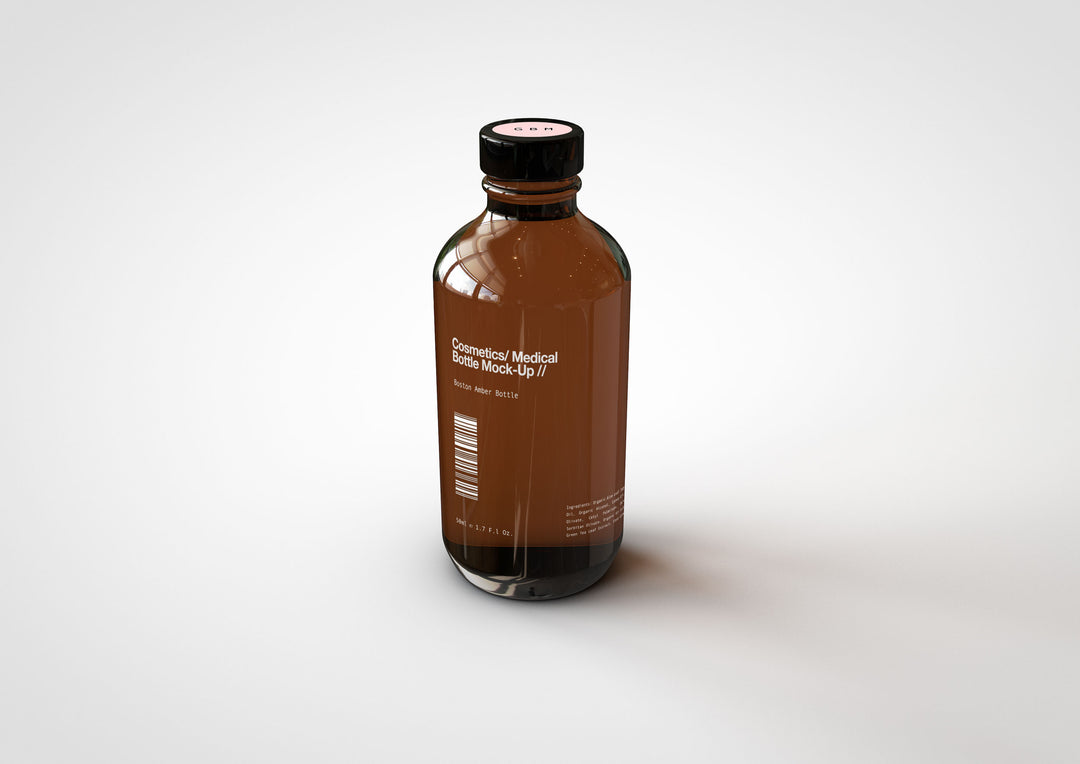Medicine: (412, 90, 658, 606)
